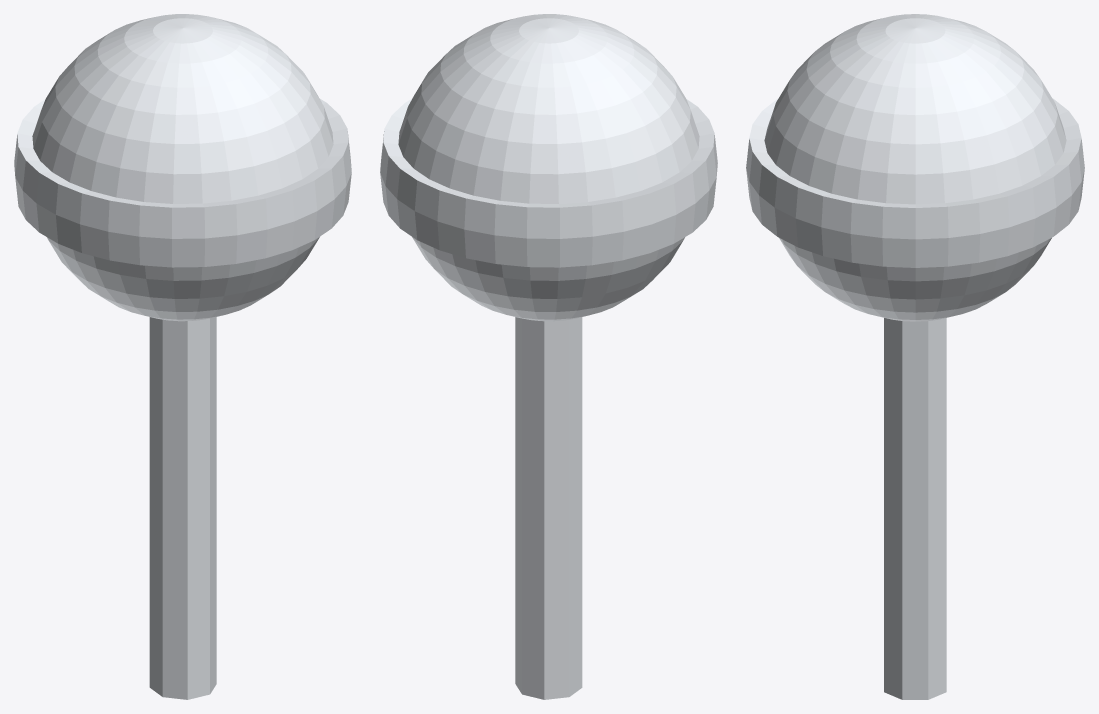
File: fgr_fur_coyac.fbx
3 views of the same model, side by side, from view 1: azimuth 30°, elevation 25°; view 2: azimuth 150°, elevation 25°; view 3: azimuth 270°, elevation 25° (orthographic).
Parts seen in each view (by area): view 1: fgr_fur_coyac; view 2: fgr_fur_coyac; view 3: fgr_fur_coyac.
Boxes of the visible parts, x1=… form: fgr_fur_coyac: x1=14, y1=14, x2=351, y2=699; fgr_fur_coyac: x1=380, y1=14, x2=717, y2=699; fgr_fur_coyac: x1=746, y1=14, x2=1084, y2=699.
Size of the model in its own units: 1416 by 3037 by 1416.
1 material, 1 textured.
